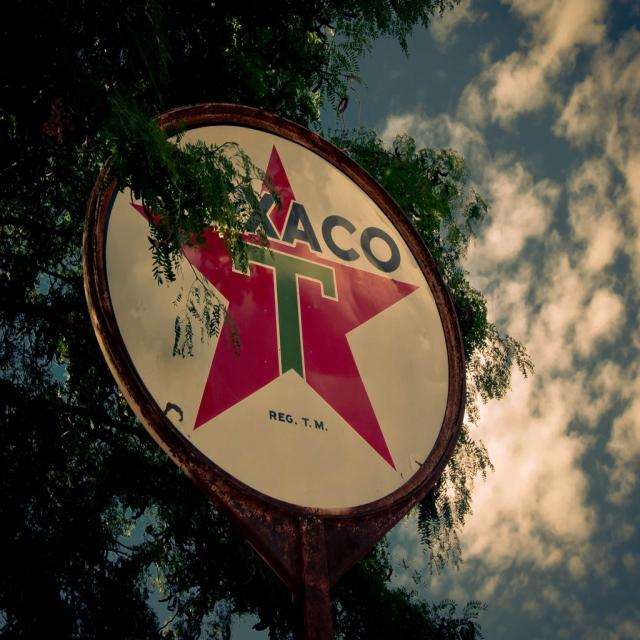texaco: (101, 125, 452, 510)
